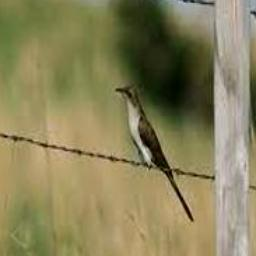Cuckoo: (113, 84, 193, 222)
